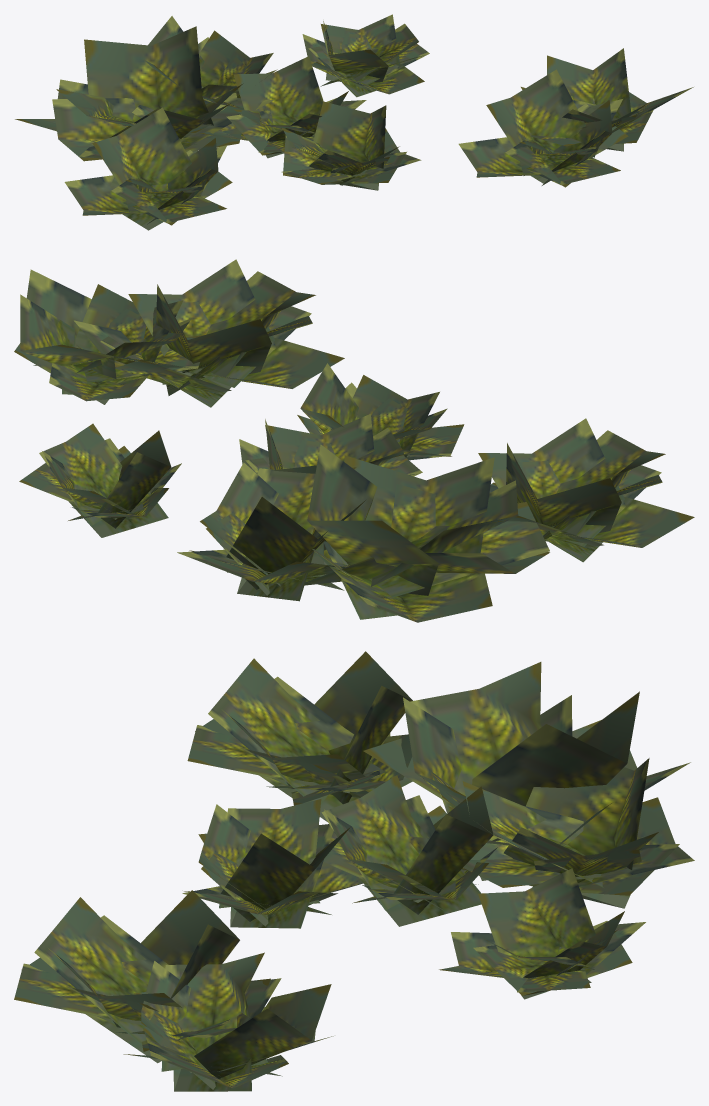
Rendered from S_Plant_Yellow019.FBX.
3 renders of one model, top to bottom at view 1: azimuth 30°, elevation 25°; view 2: azimuth 150°, elevation 25°; view 3: azimuth 270°, elevation 25°, orthographic. The views are drawn at different scales.
Parts seen in each view (by area): view 1: S_Plant_Yellow019; view 2: S_Plant_Yellow019; view 3: S_Plant_Yellow019.
Part boxes in pixels (box(x1,y1,x2,y2)): S_Plant_Yellow019: box(15, 14, 693, 230); S_Plant_Yellow019: box(14, 259, 694, 622); S_Plant_Yellow019: box(14, 651, 694, 1091).
Size of the model in its own units: 781 by 555 by 151.
